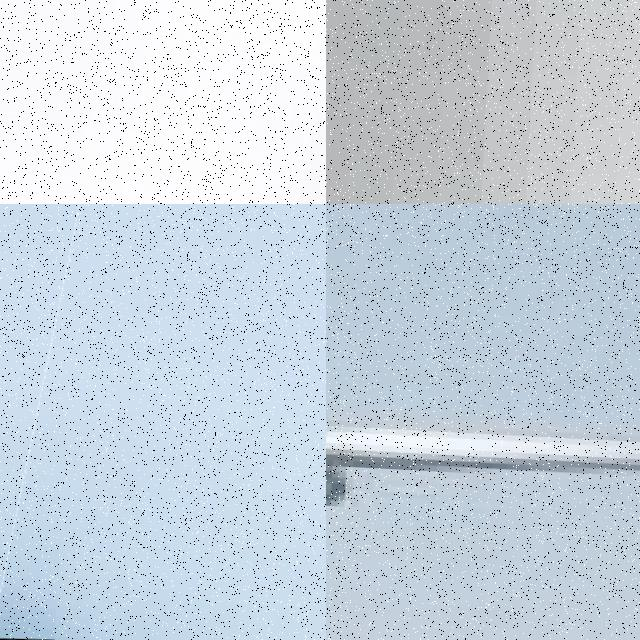0: (0, 0, 326, 204)
drone: (0, 204, 86, 640)
